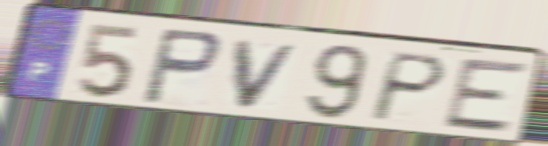5: (74, 21, 144, 100)
9: (301, 43, 371, 122)
E: (439, 57, 534, 135)
P: (139, 26, 224, 108), (365, 50, 451, 124)
V: (232, 38, 306, 112)
